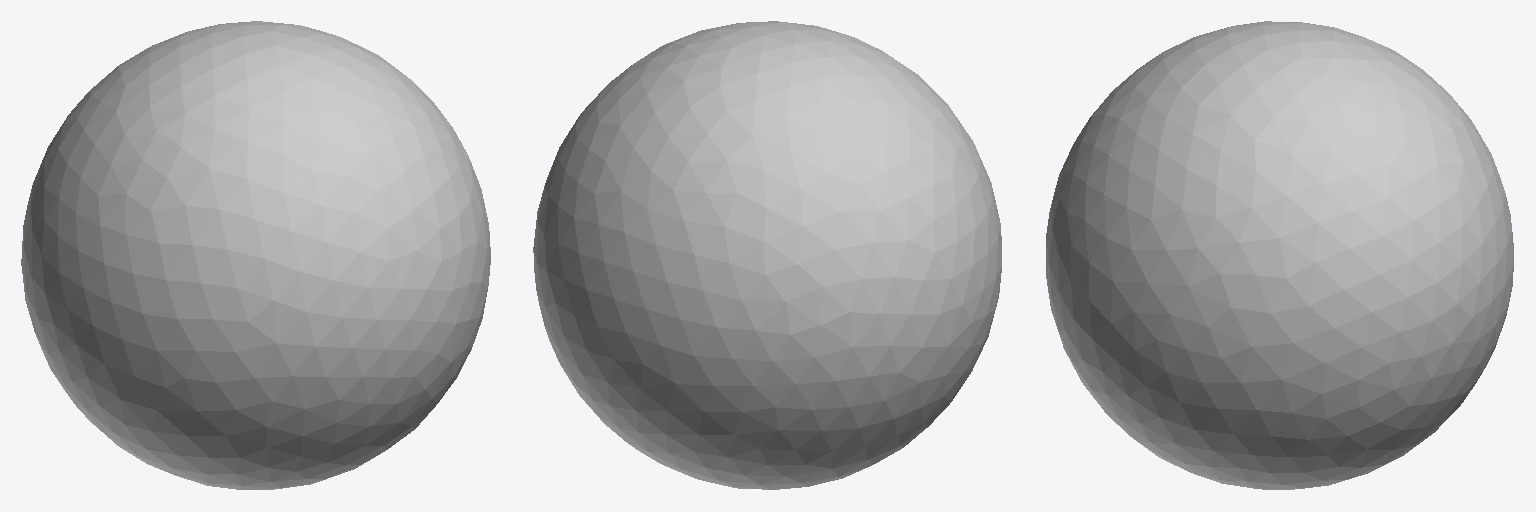
The model's file is sphere_coarse.obj.
3 renders of one model, left to right at view 1: azimuth 30°, elevation 25°; view 2: azimuth 150°, elevation 25°; view 3: azimuth 270°, elevation 25°, orthographic.
Size of the model in its own units: 0.9933 by 0.9941 by 0.9941.